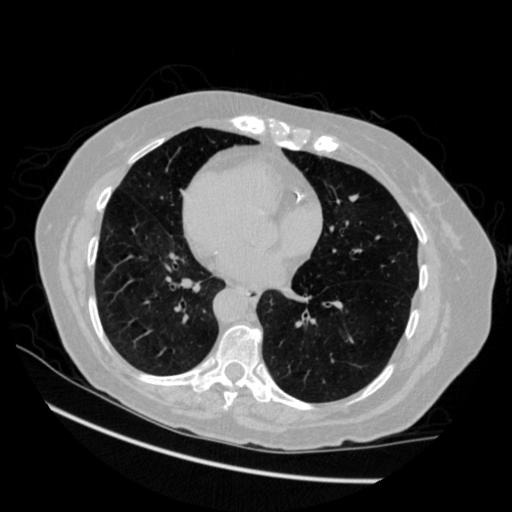nodule: (348, 191, 364, 207)
